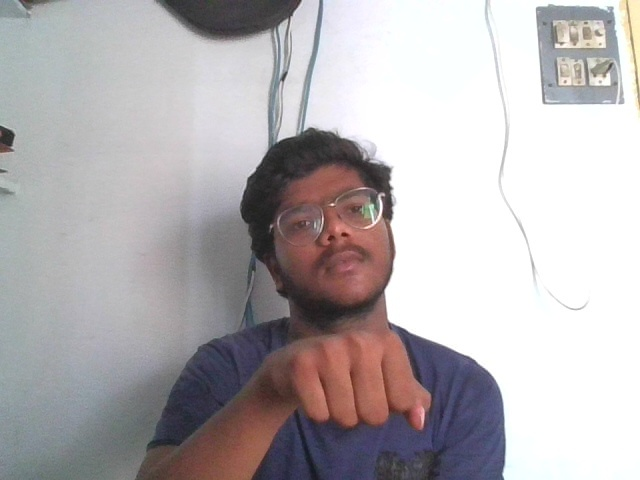Yes: (277, 327, 435, 431)
